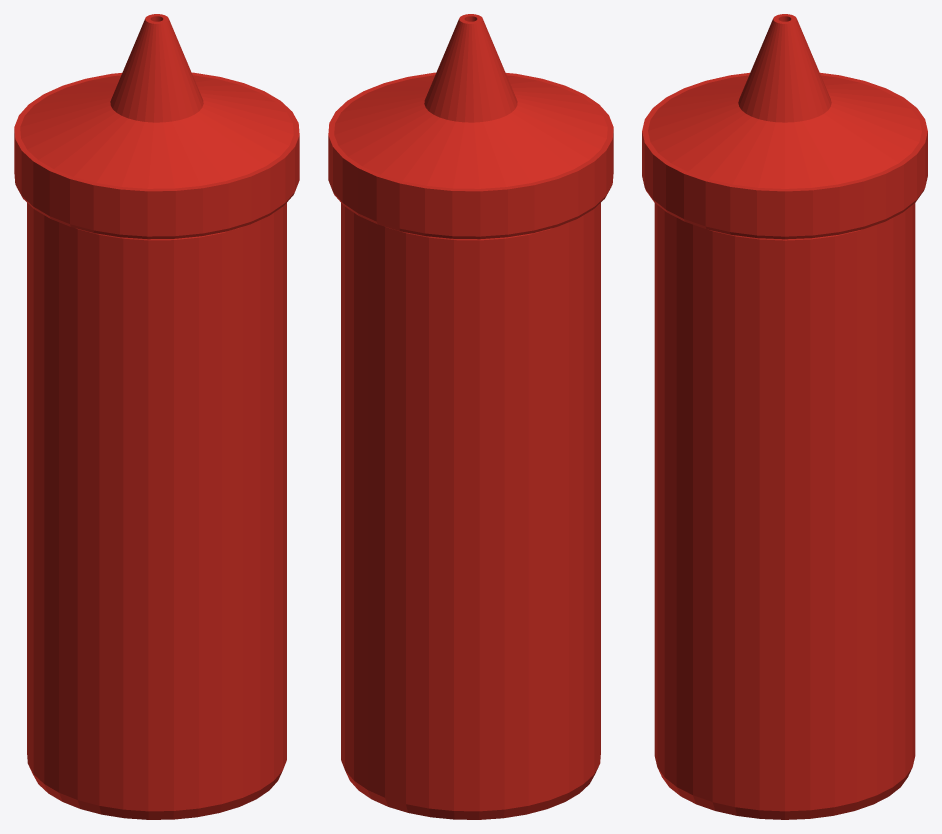
Rendered from ketchup_bottle.glb.
3 views of the same model, side by side, from view 1: azimuth 30°, elevation 25°; view 2: azimuth 150°, elevation 25°; view 3: azimuth 270°, elevation 25° (orthographic).
Parts seen in each view (by area): view 1: ketchup; view 2: ketchup; view 3: ketchup.
Boxes of the visible parts, left/top/right/bottom form: ketchup: left=14, top=14, right=299, bottom=819; ketchup: left=328, top=14, right=613, bottom=819; ketchup: left=642, top=14, right=927, bottom=819.
Bounding box in the file's own units: 0.0964 × 0.28 × 0.0964.
